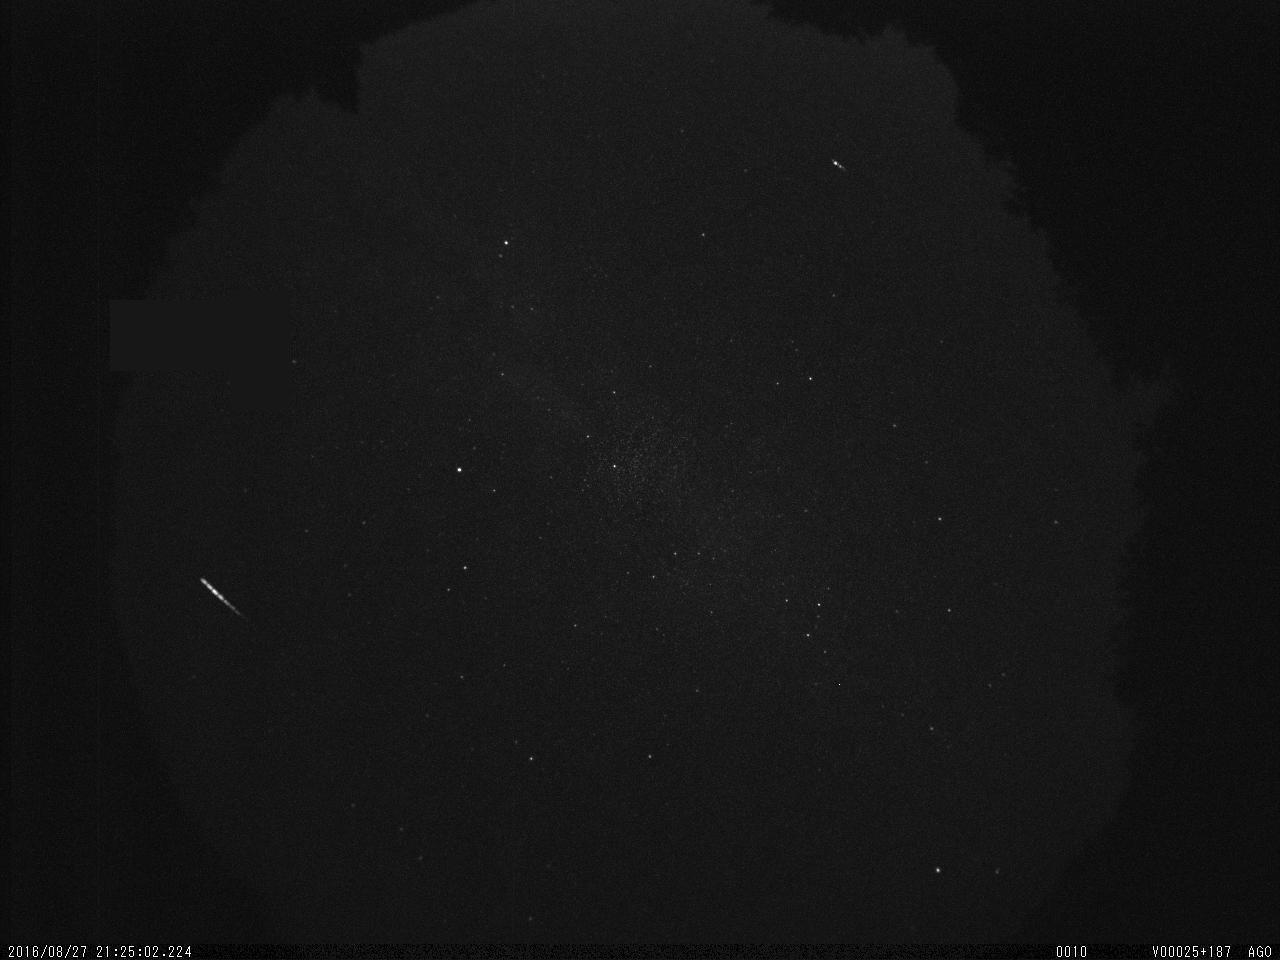Meteor: (197, 574, 250, 623), (827, 155, 850, 175)
